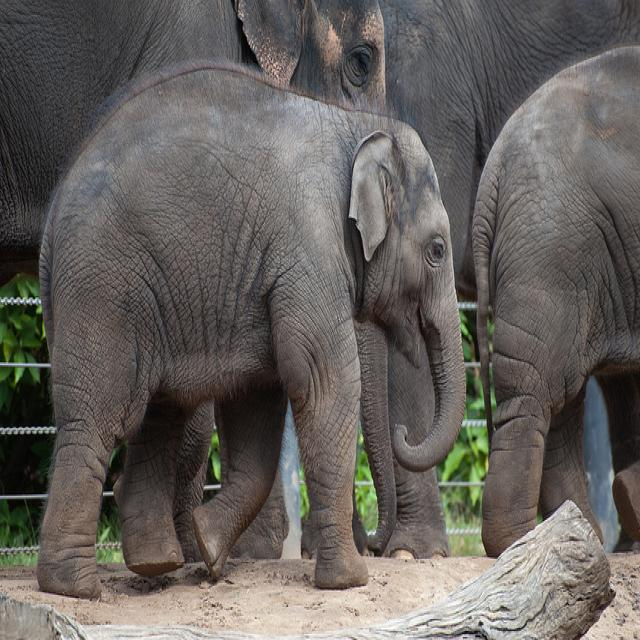Elephant: (35, 57, 466, 598), (470, 44, 639, 558)
